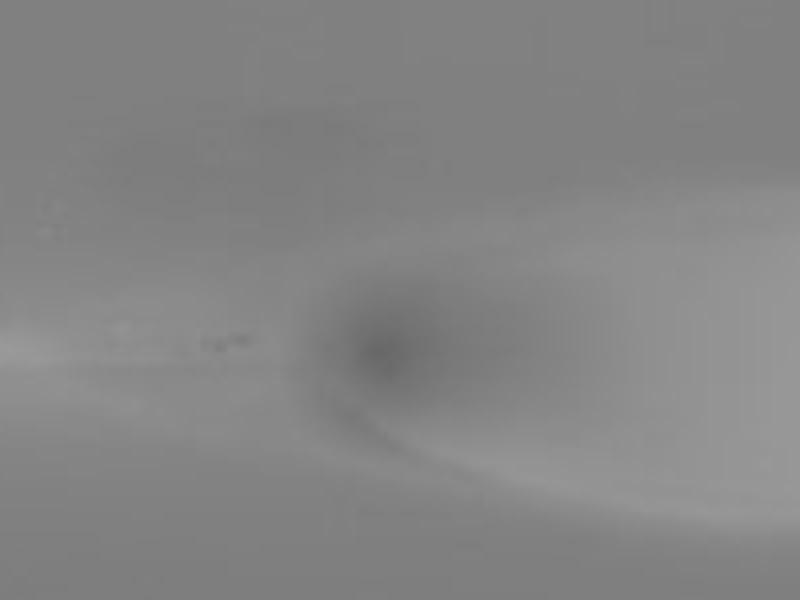defect: (202, 327, 259, 348)
